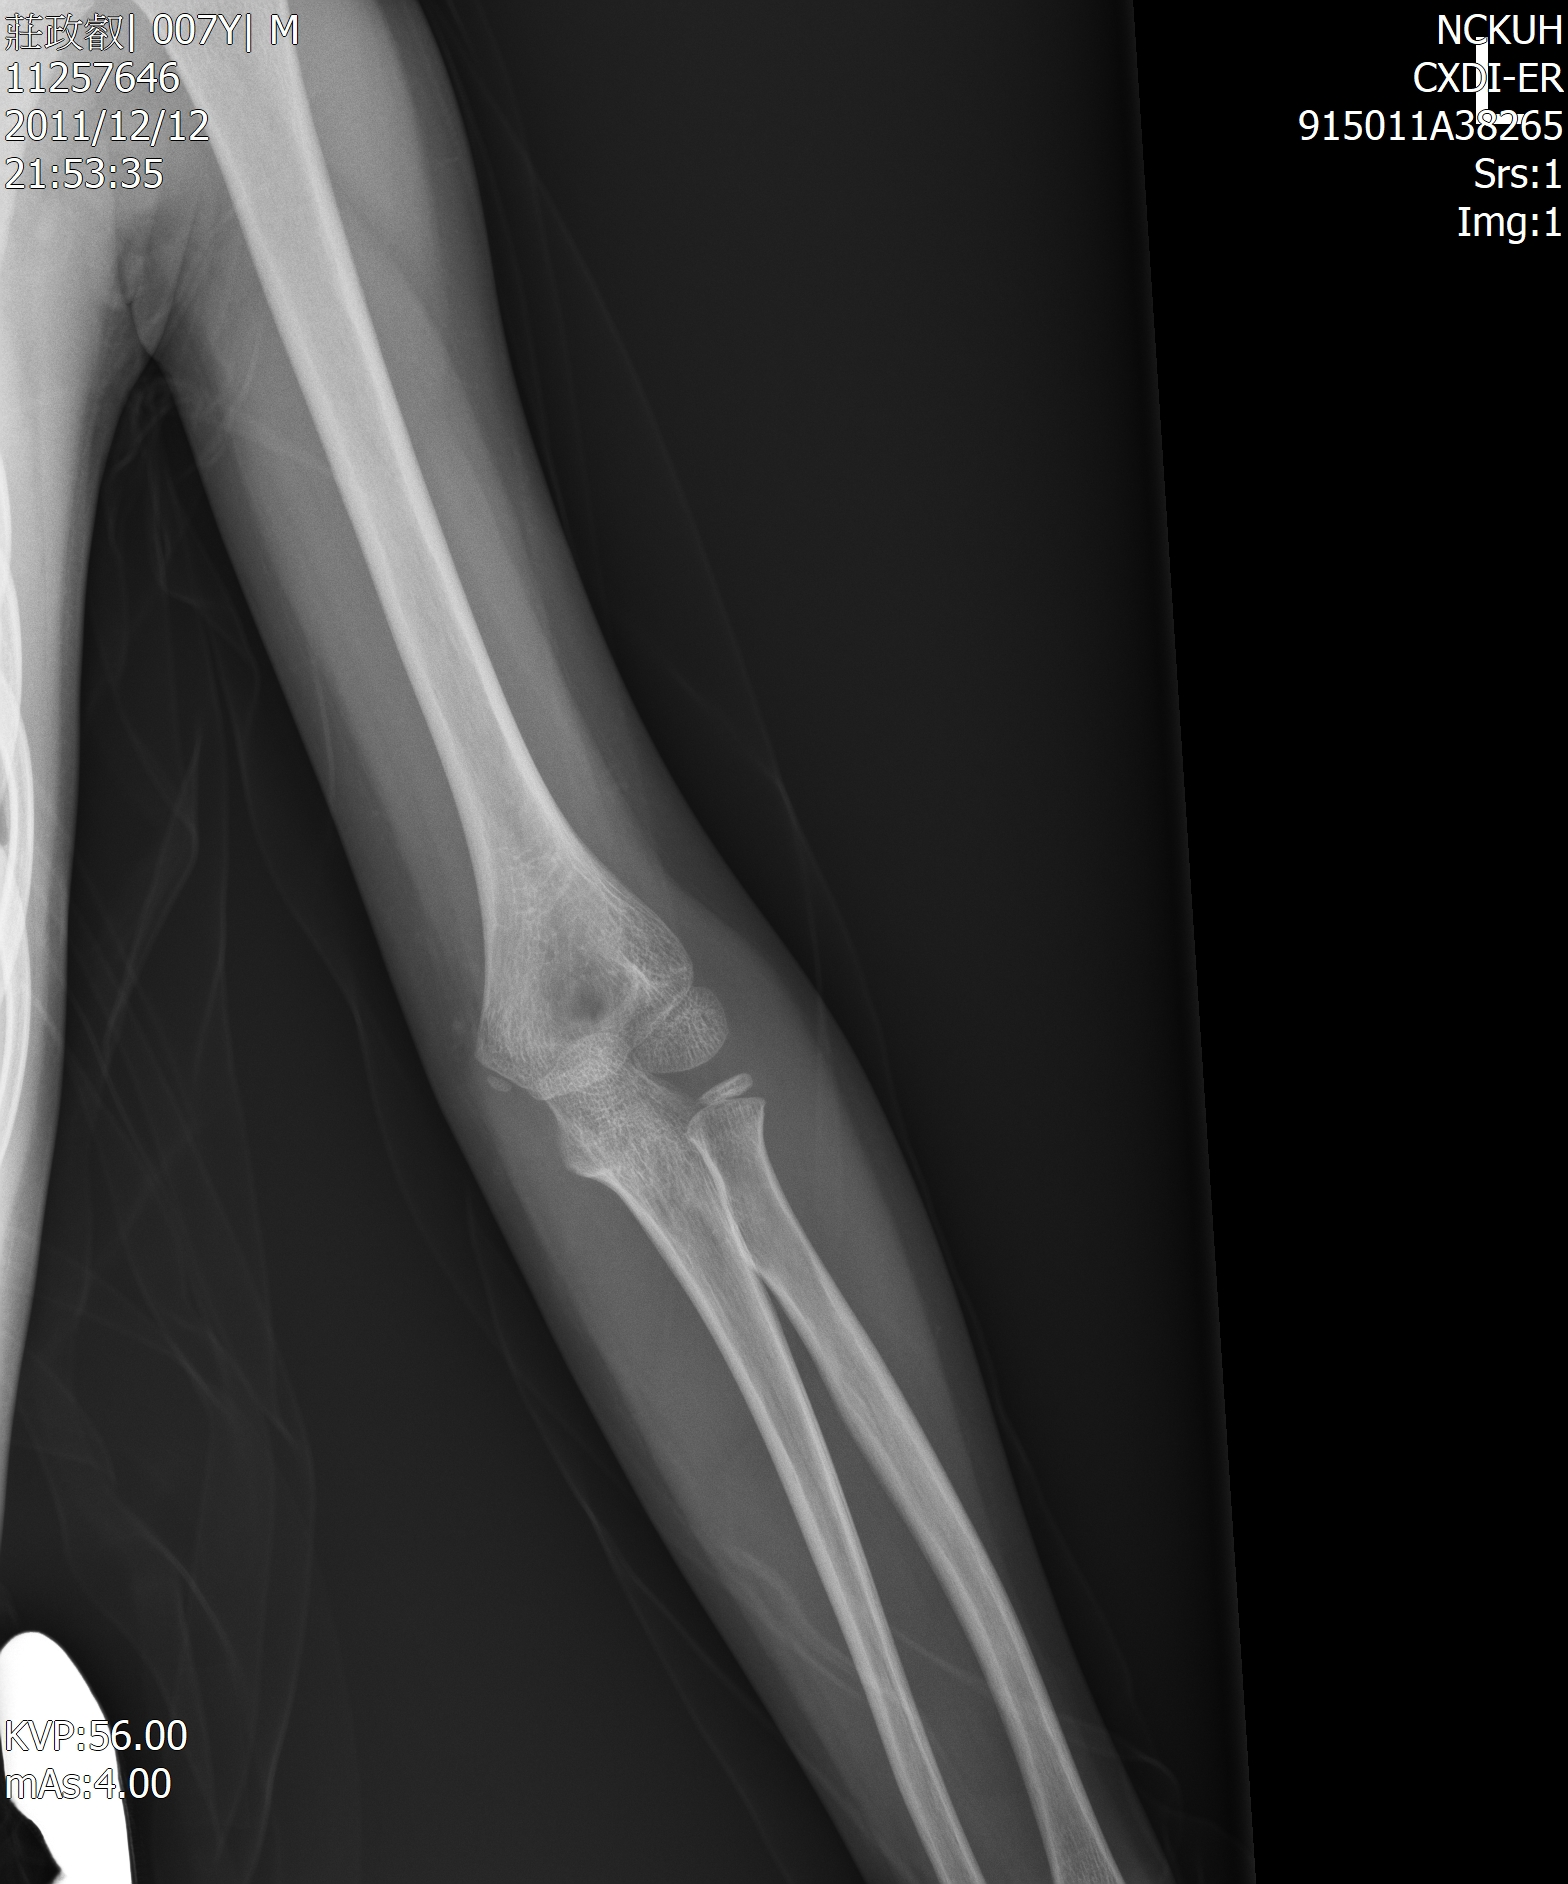Normal: (322, 782, 895, 1310)
